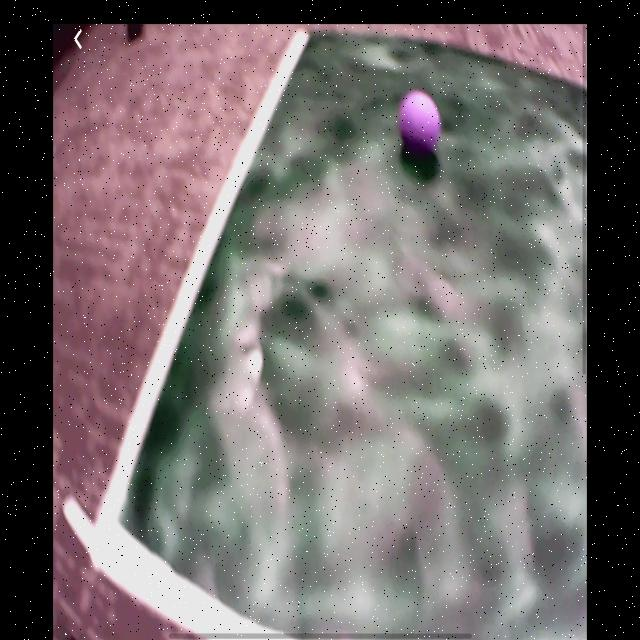ball: (402, 90, 441, 156)
